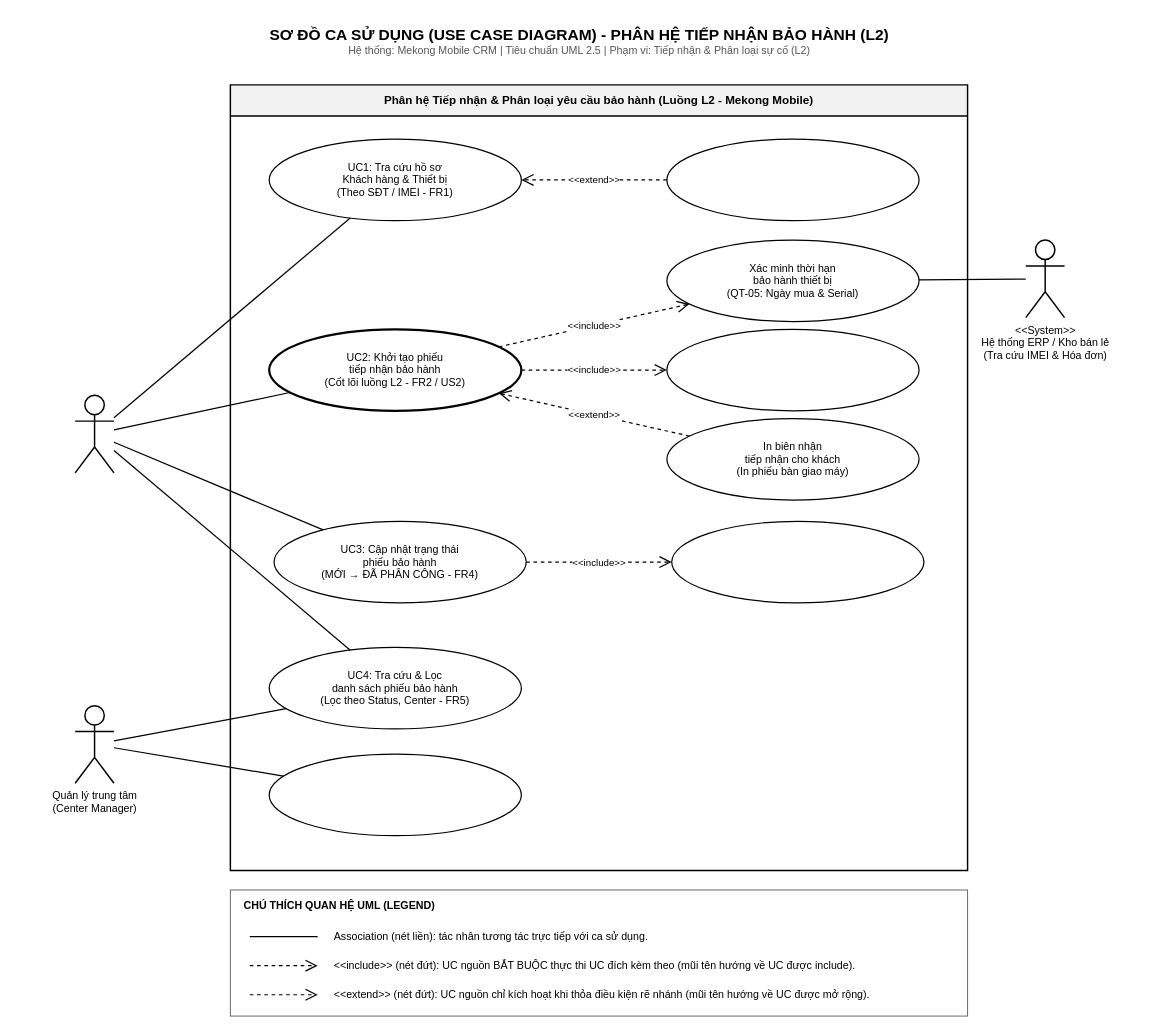
Image size: 1158x1033. Some labels were removed from this diagram. The centre of each missing label's shape, as x and y in pixels:
Ghi nhật ký lịch sử chuyển trạng thái (Bảng ticket_status_log - QT-06): the point at 797,561
Nhân viên tiếp nhận (Receptionist - Quầy lễ tân): the point at 94,433
Phân loại sự cố & Tự động tính SLA (FR3 / QT-04: Hạn 24h/72h): the point at 792,369
UC5: Giám sát tiến độ & Cảnh báo hạn cam kết (SLA) (Cảnh báo quá hạn 24h): the point at 395,794
Đăng ký hồ sơ Khách hàng mới (Khi SĐT chưa có - QT-01): the point at 792,179
